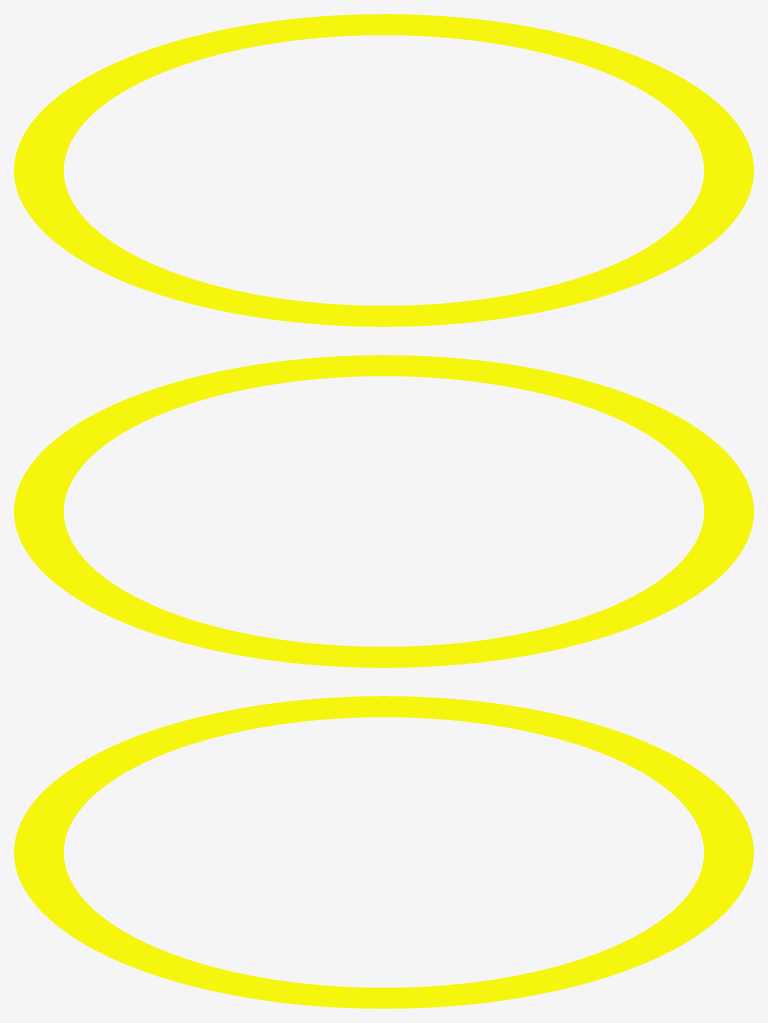
The model's file is ringnoseed.fbx.
The picture shows the model from 3 angles, top to bottom: view 1: azimuth 30°, elevation 25°; view 2: azimuth 150°, elevation 25°; view 3: azimuth 270°, elevation 25°; orthographic projection.
Visible parts, largest first — view 1: NoSeed; view 2: NoSeed; view 3: NoSeed.
Part boxes in pixels (x1=…): NoSeed: x1=14, y1=14, x2=753, y2=326; NoSeed: x1=14, y1=355, x2=753, y2=667; NoSeed: x1=14, y1=696, x2=753, y2=1008.
Size of the model in its own units: 3060 by 1.83 by 3060.
